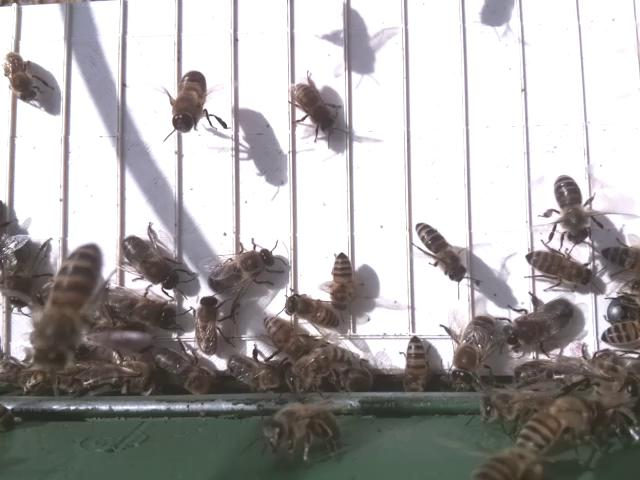Drone: (498, 295, 578, 351), (120, 232, 185, 293), (449, 311, 499, 389), (206, 246, 276, 296)
Worker: (412, 219, 466, 286), (550, 172, 592, 243), (522, 247, 592, 287), (282, 291, 342, 333), (291, 81, 337, 134), (169, 70, 207, 133), (1, 50, 40, 105), (192, 295, 225, 356), (328, 245, 356, 312), (404, 332, 428, 392)
